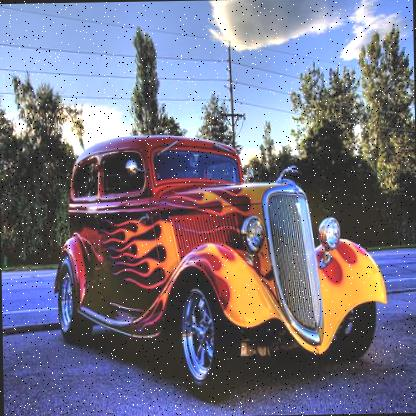car: (46, 123, 390, 391)
